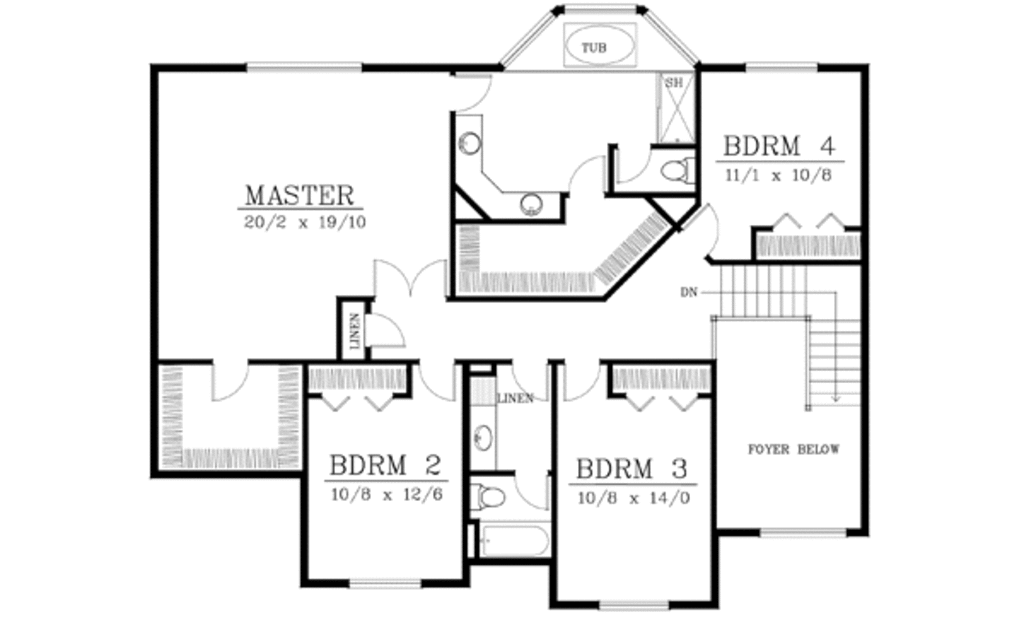door: (371, 259, 443, 301), (208, 352, 262, 403), (680, 199, 728, 256), (550, 359, 602, 407), (558, 154, 613, 199), (413, 355, 461, 405), (512, 464, 559, 512), (364, 314, 415, 354), (610, 138, 653, 185), (506, 361, 554, 403), (452, 67, 496, 112)
large_sink: (455, 473, 513, 520), (658, 141, 705, 188)
small_sink: (446, 121, 493, 184), (460, 422, 500, 464), (509, 188, 555, 219)
stairs: (701, 260, 862, 421)
tub: (557, 20, 643, 73), (474, 522, 555, 561)
window: (242, 54, 368, 76), (343, 572, 421, 598), (743, 52, 824, 76), (756, 522, 850, 542), (590, 595, 669, 618)
